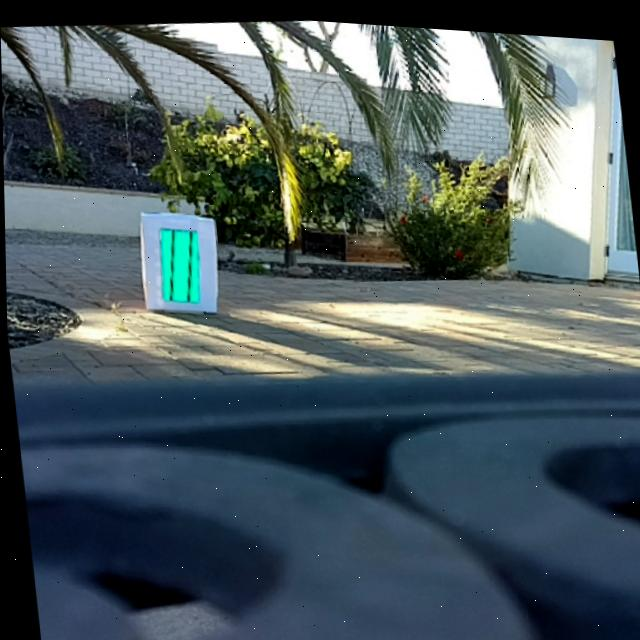led: (155, 223, 203, 304)
